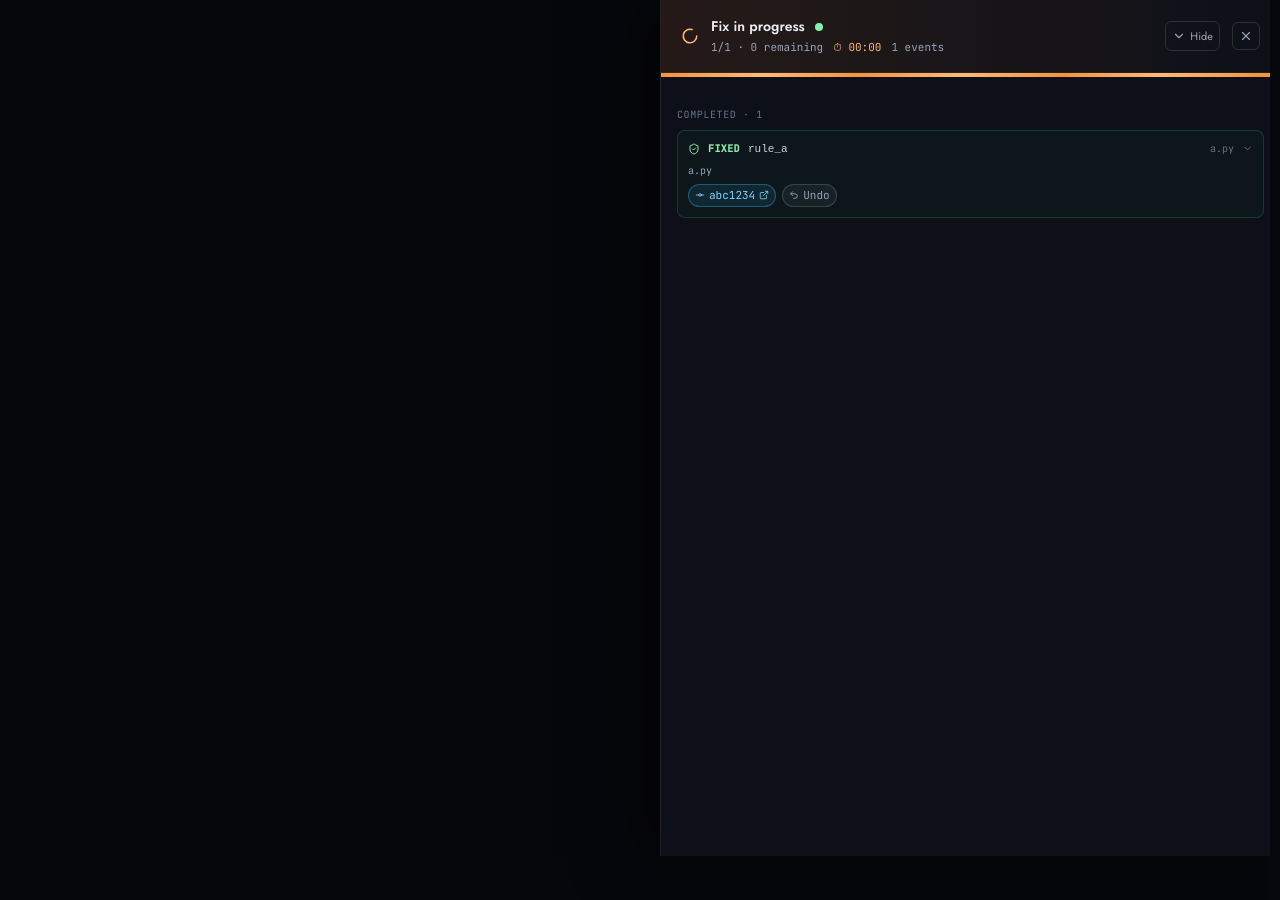
Test case: FixProgressDrawer — Part 2b R6 undo/revert › shows a toast and a retry affordance when the revert call fails
Click the button with test id "fix-row-undo-f1" at (809, 195), box [782,184,837,206]
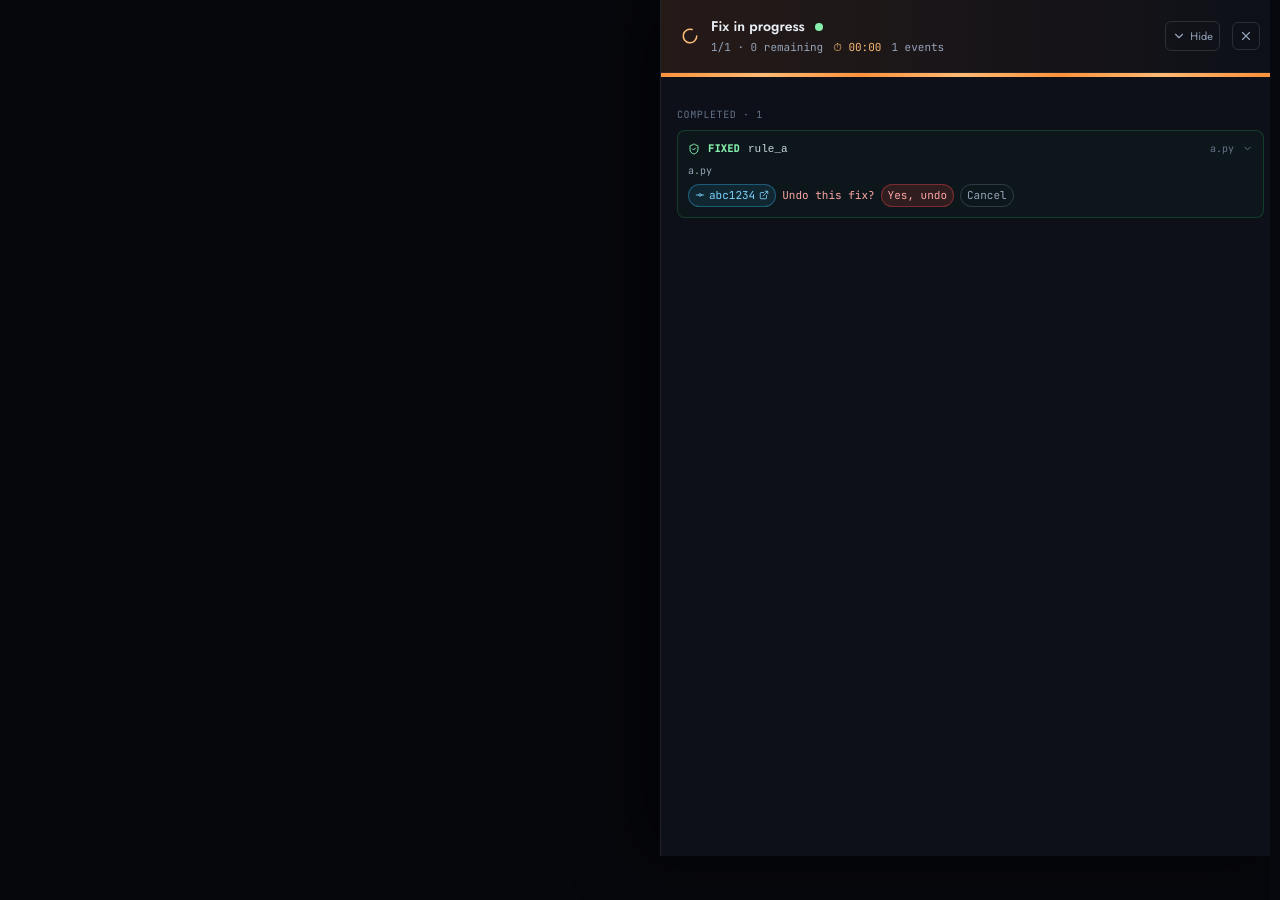
Click the button with test id "fix-row-undo-confirm-f1" at (917, 195), box [881,184,954,206]
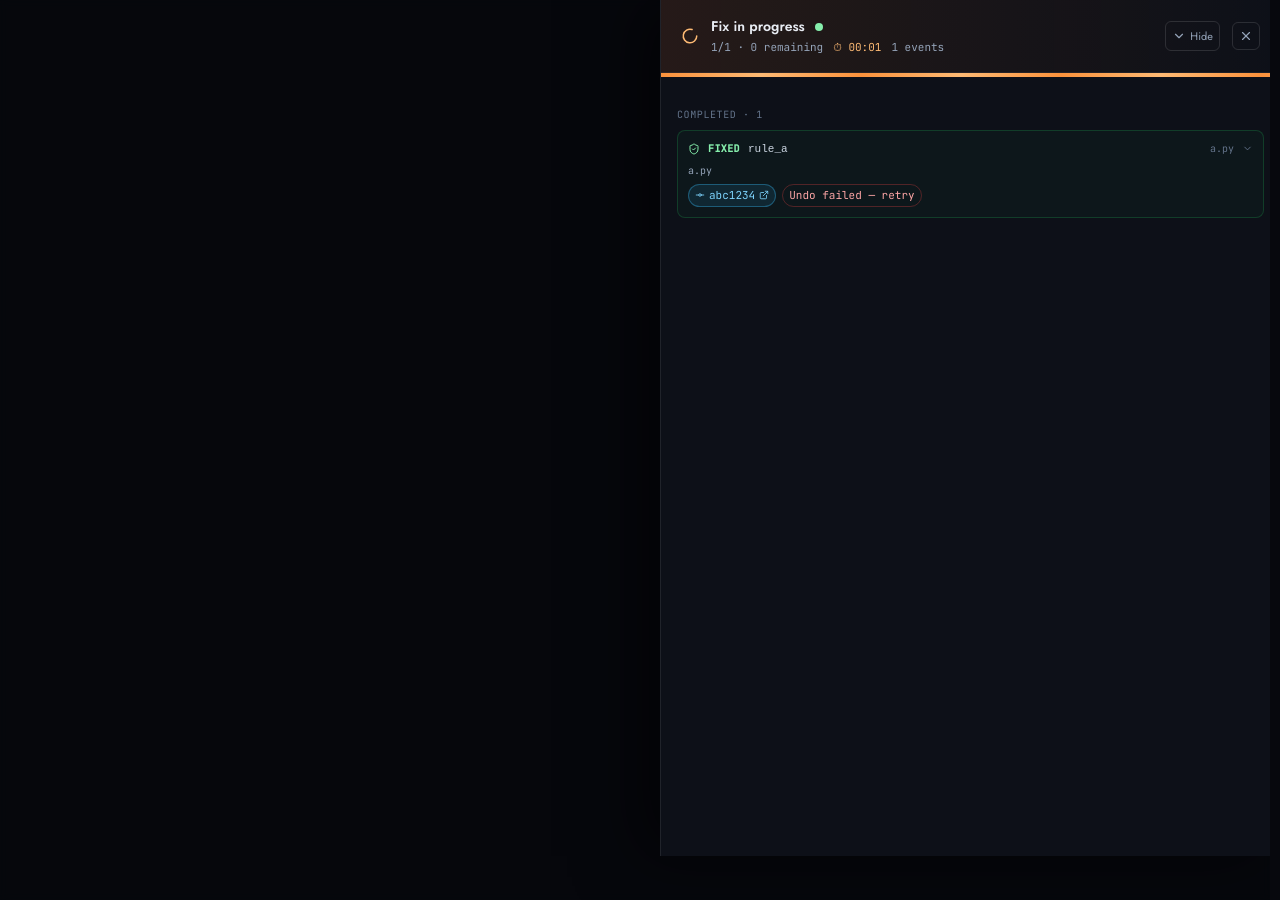
expect the button "Undo failed — retry" is shown: met, box [782,184,922,206]
